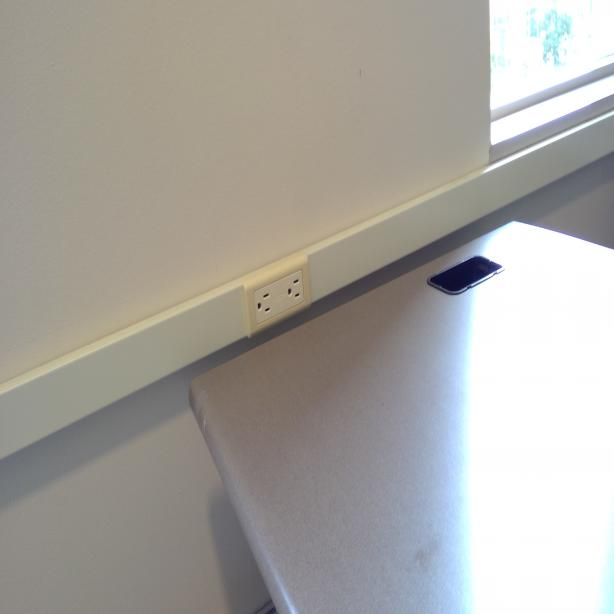typeb: (282, 274, 306, 308), (256, 288, 276, 320)
